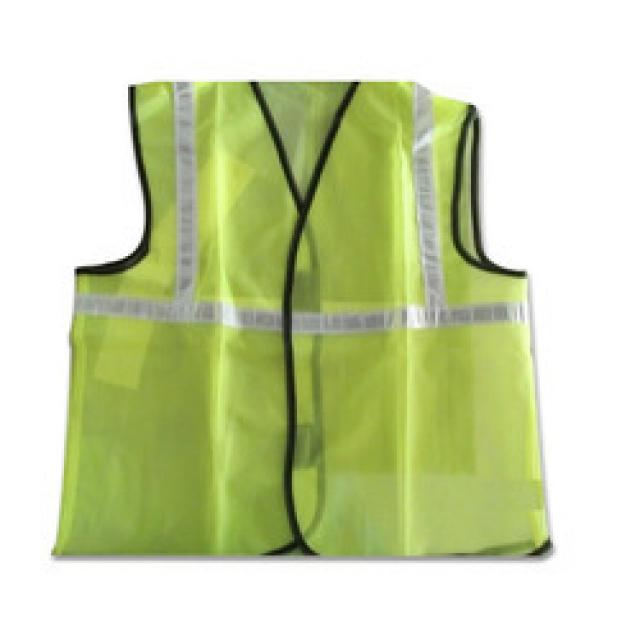Reflective-Jacket: (31, 56, 578, 566)
